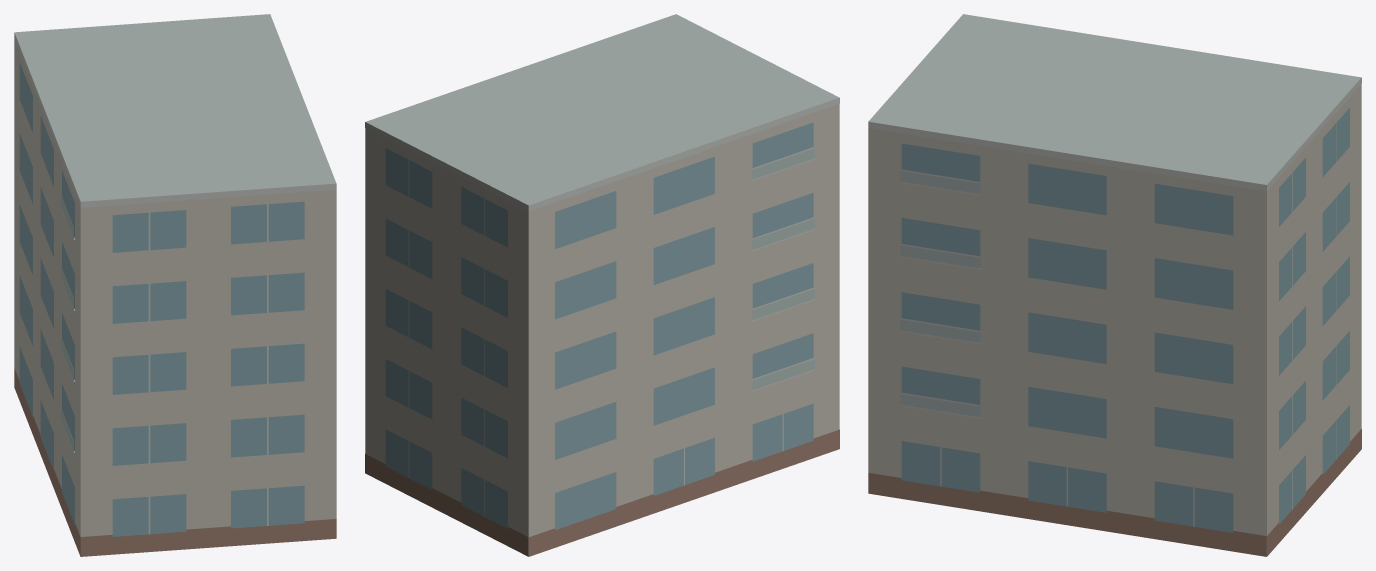
The model's file is survey-upis-32756408.glb.
The picture shows the model from 3 angles, left to right: view 1: azimuth 30°, elevation 25°; view 2: azimuth 150°, elevation 25°; view 3: azimuth 270°, elevation 25°; orthographic projection. The views are drawn at different scales.
Visible parts, largest first — view 1: survey-upis-32756408.tmp; view 2: survey-upis-32756408.tmp; view 3: survey-upis-32756408.tmp.
Boxes of the visible parts, left/top/right/bottom form: survey-upis-32756408.tmp: left=14, top=14, right=336, bottom=556; survey-upis-32756408.tmp: left=365, top=14, right=839, bottom=556; survey-upis-32756408.tmp: left=868, top=14, right=1361, bottom=556.
Size of the model in its own units: 13.91 by 14.1 by 16.97.
